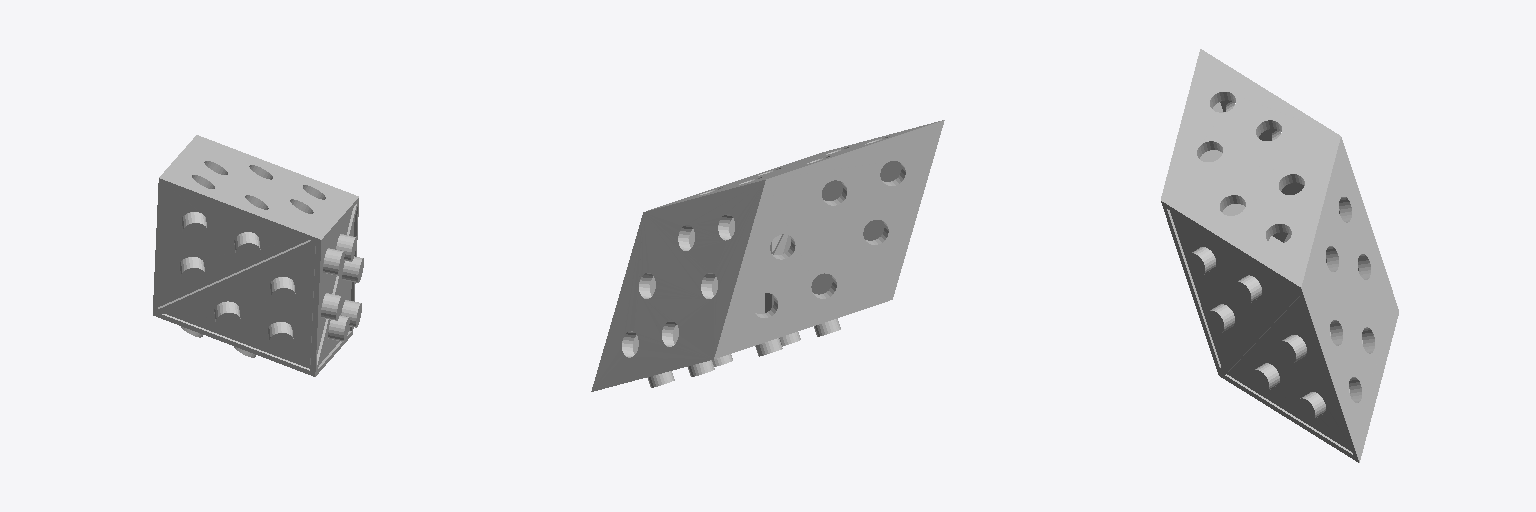
The model's file is peggy_exploded.obj.
3 views of the same model, side by side, from view 1: azimuth 30°, elevation 25°; view 2: azimuth 150°, elevation 25°; view 3: azimuth 270°, elevation 25° (orthographic).
Visible parts, largest first — view 1: Mesh1 Model; view 2: Mesh1 Model; view 3: Mesh1 Model.
Boxes of the visible parts, <box> form: Mesh1 Model: <box>153,135,363,376</box>; Mesh1 Model: <box>591,120,944,391</box>; Mesh1 Model: <box>1161,49,1398,462</box>.
Size of the model in its own units: 119 by 116 by 89.51.